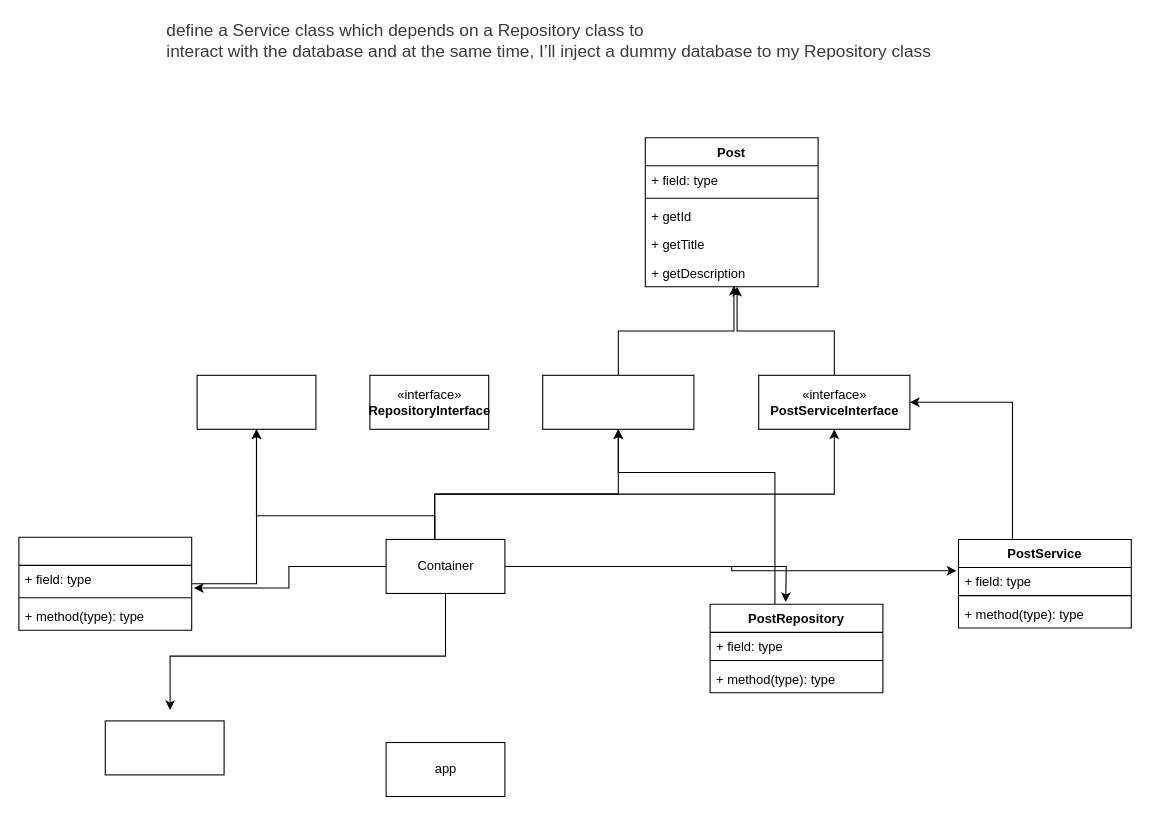
The diagram is 1150 pixels wide and 815 high, and some of its shapes have lost their labels. The shapes that lost their labels are listed below. From the top down, each one's box as (x1, y1, x2, y2) in pixels, then its label:
(196, 374, 316, 429): «interface» DatabaseStorage
(542, 374, 694, 429): «interface» PostRepositoryInterface
(18, 536, 192, 630): MemoryStorage
(104, 720, 224, 775): TYPES
